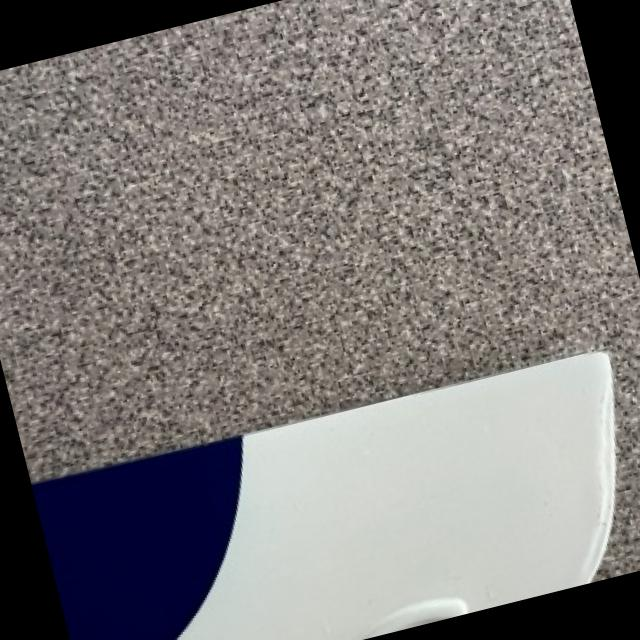healthy: (33, 349, 616, 640)
